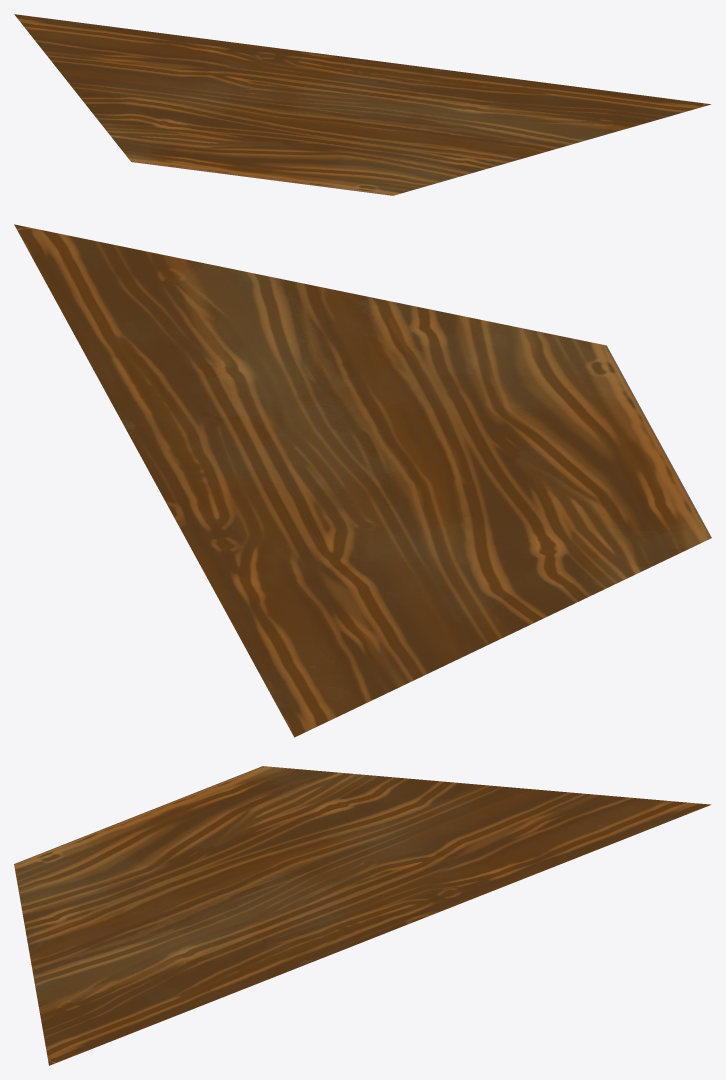
3 renders of one model, top to bottom at view 1: azimuth 30°, elevation 25°; view 2: azimuth 150°, elevation 25°; view 3: azimuth 270°, elevation 25°, orthographic. The views are drawn at different scales.
Parts seen in each view (by area): view 1: Plane.006; view 2: Plane.006; view 3: Plane.006.
Boxes of the visible parts, x1=… form: Plane.006: x1=14, y1=14, x2=710, y2=195; Plane.006: x1=14, y1=224, x2=711, y2=737; Plane.006: x1=14, y1=766, x2=711, y2=1065.
Size of the model in its own units: 1823 by 0.000351 by 1793.
1 material, 1 textured.
